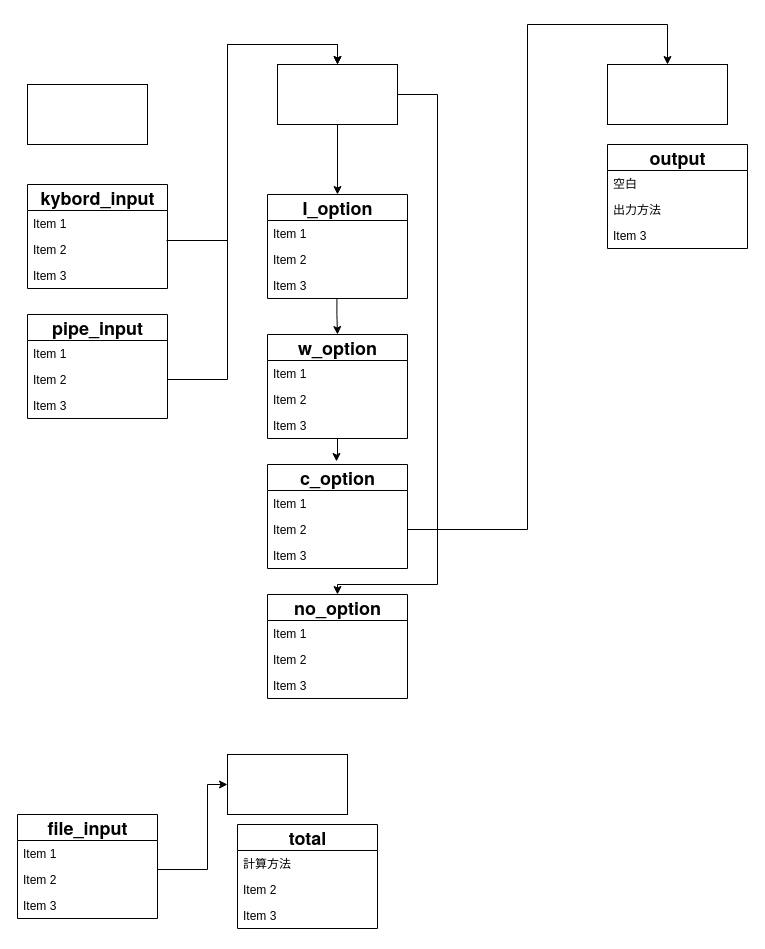
Some shapes in this 765 by 949 pixel diagram are drawn without their labels. Here are the shapes that lost their labels. From the top down, the centre of each, then its label:
At point 87,114: "入力方法は何？".
At point 337,94: "オプションある？".
At point 667,94: "アウトプット".
At point 287,784: "複数ファイルある？".
